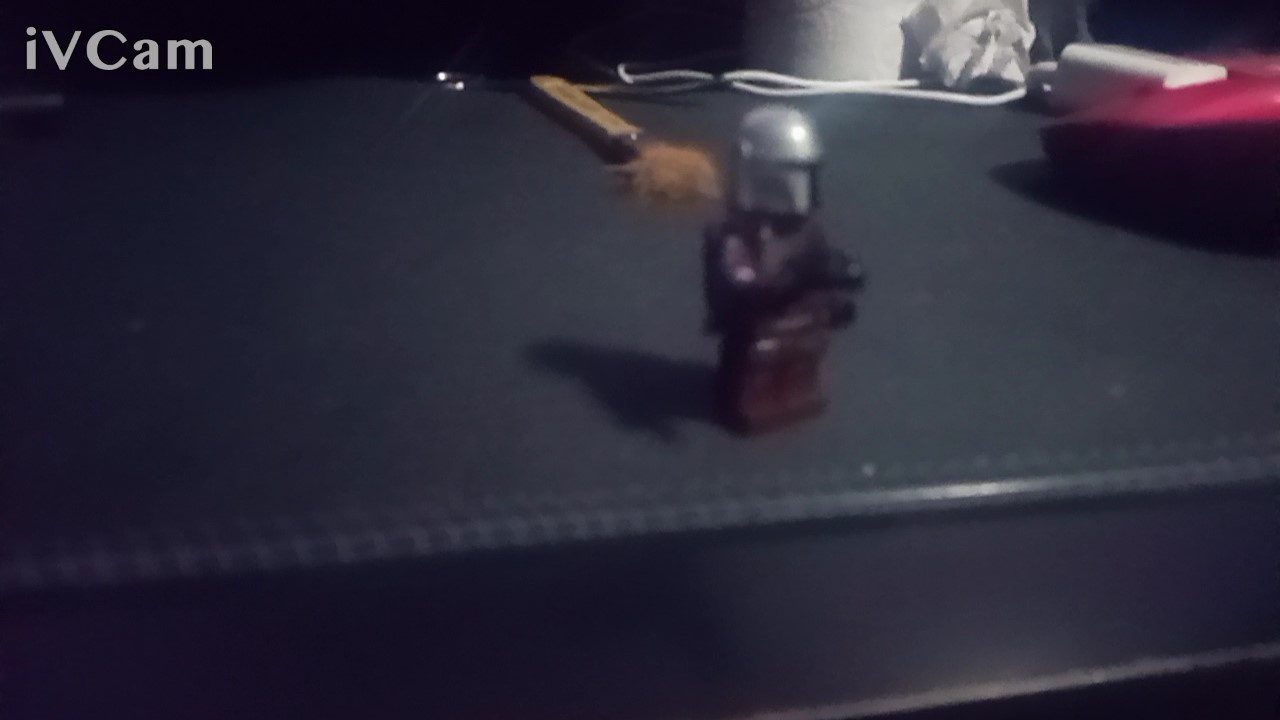mandalorian: (691, 85, 888, 473)
